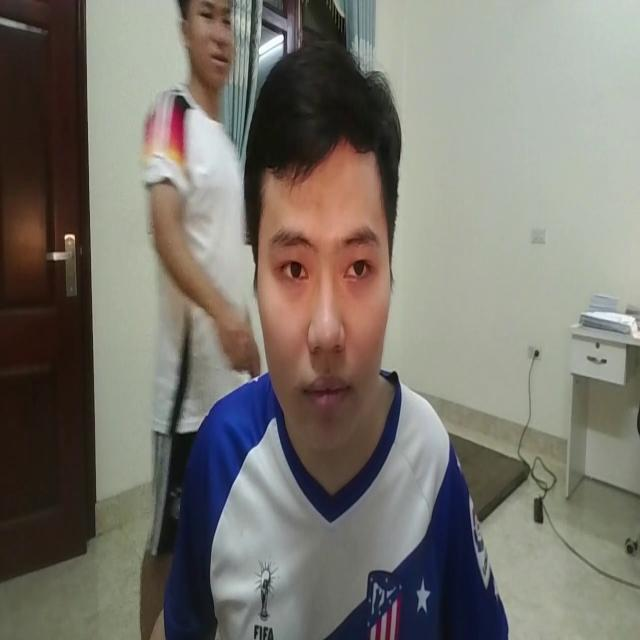extra_person: (122, 0, 266, 640)
student: (152, 41, 513, 640)
